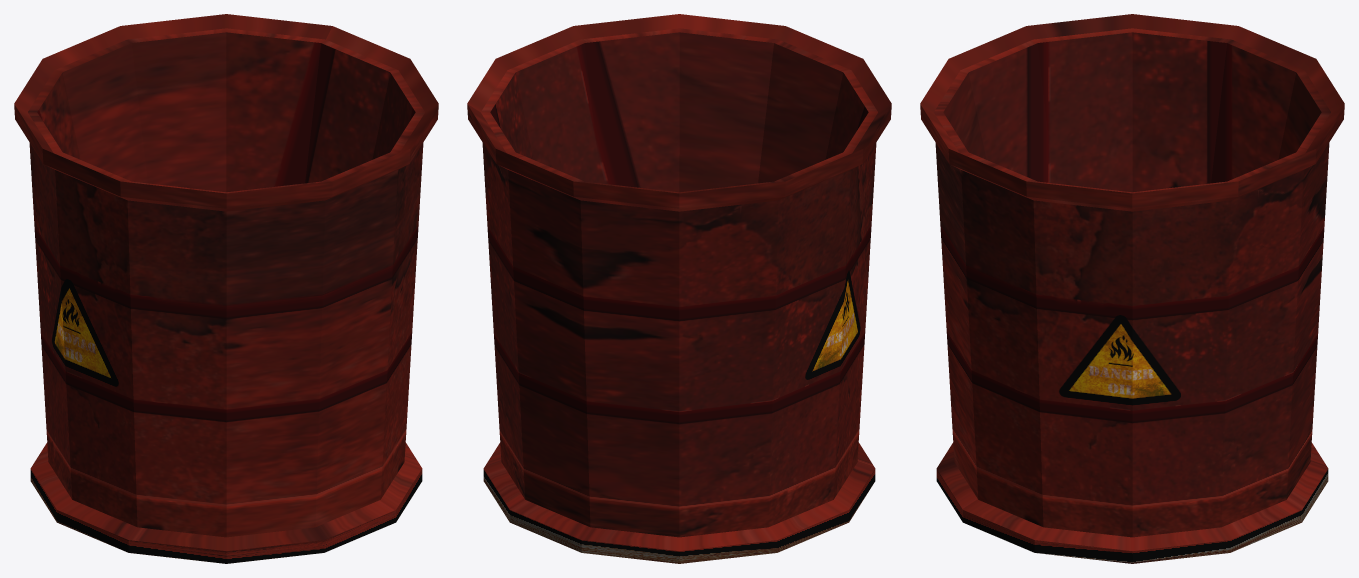
Rendered from drum.fbx.
The picture shows the model from 3 angles, left to right: view 1: azimuth 30°, elevation 25°; view 2: azimuth 150°, elevation 25°; view 3: azimuth 270°, elevation 25°; orthographic projection.
Parts seen in each view (by area): view 1: pCylinder1; view 2: pCylinder1; view 3: pCylinder1.
Boxes of the visible parts, x1,y1,x2,y2 form: pCylinder1: (14,14,438,563); pCylinder1: (467,14,891,563); pCylinder1: (920,14,1344,563).
Bounding box in the file's own units: 110 × 110 × 110.
